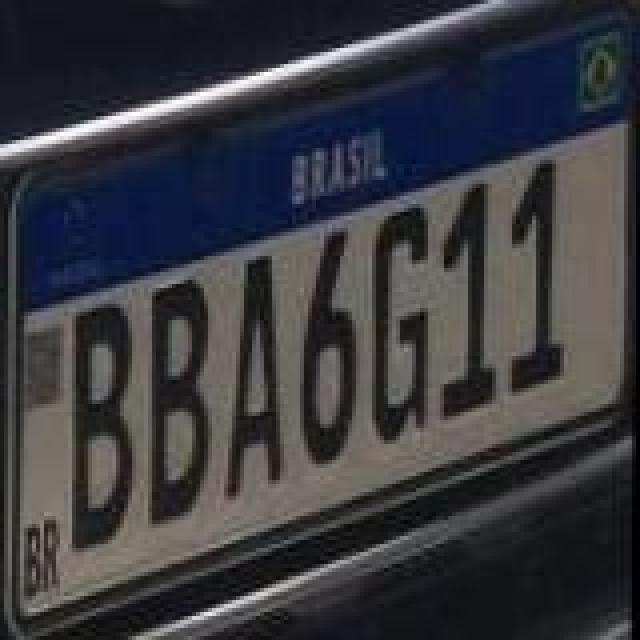1: (436, 180, 500, 428), (506, 158, 566, 402)
6: (300, 224, 364, 464)
A: (228, 248, 292, 504)
B: (70, 304, 142, 560), (144, 276, 216, 532)
G: (368, 204, 432, 452)
